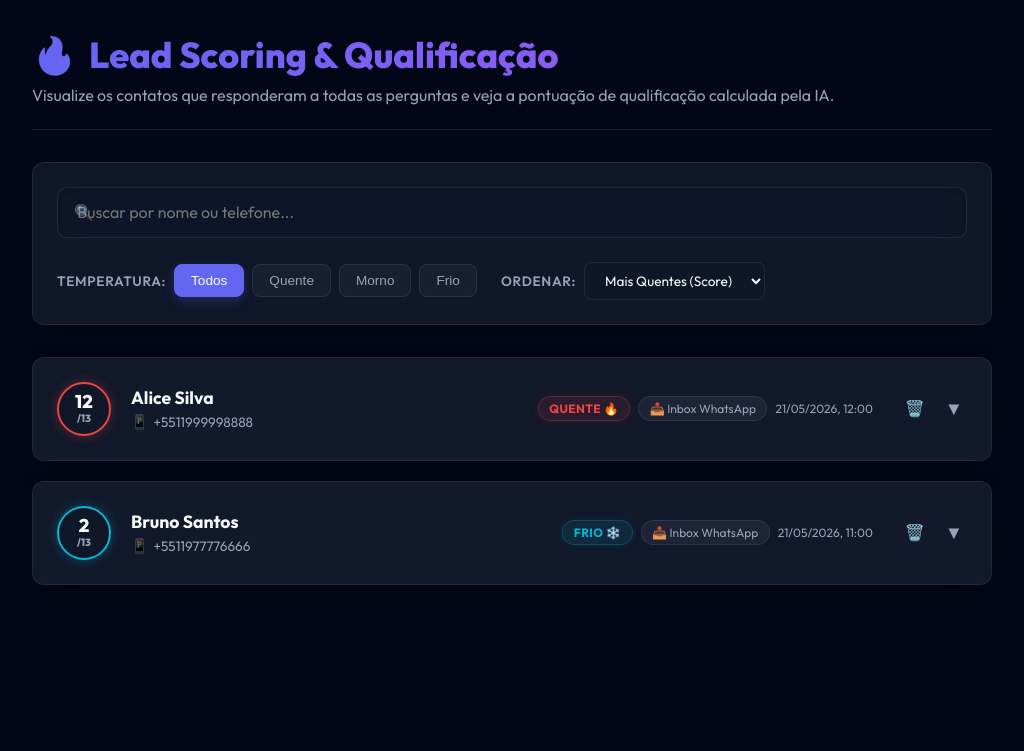
Test: LeadScoring Component › deve expandir e recolher o accordion para exibir perguntas, respostas e justificativa
The width and height of the screenshot is (1024, 751).
Expected: the heading "Alice Silva" is shown, left=131, top=386, right=214, bottom=409
Expected: the text "Respostas de Qualificação" is not shown
# Clicar no cabeçalho do card para expandir
Click the text "Alice Silva": (512, 409) left=33, top=358, right=991, bottom=460
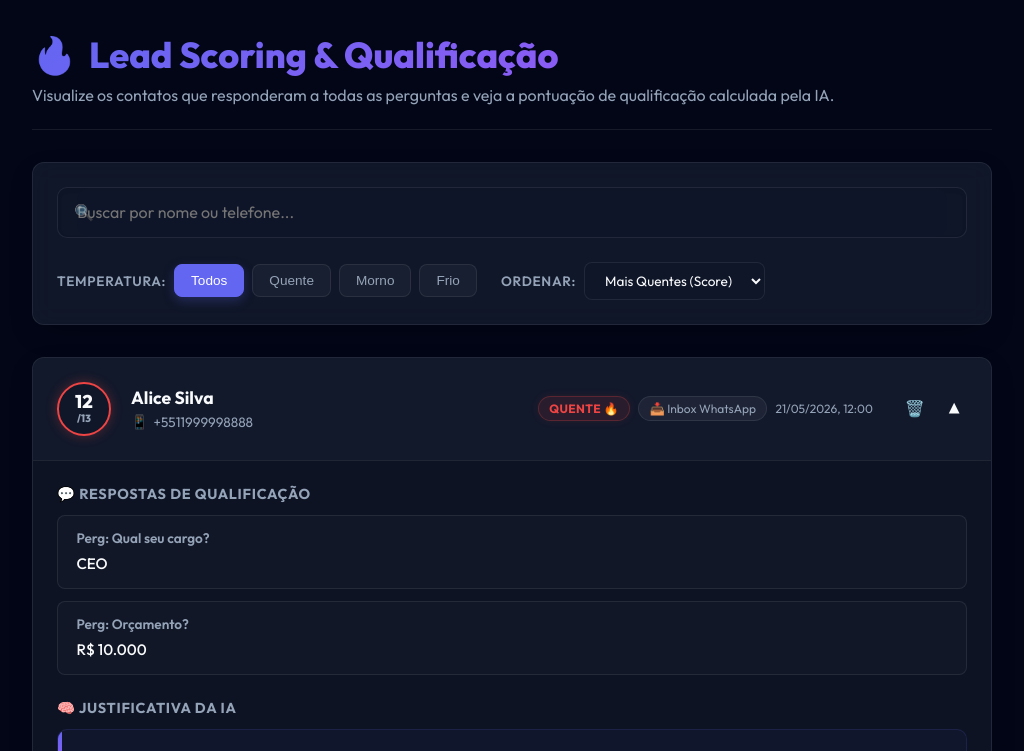
Now the heading "💬 Respostas de Qualificação" is shown, box left=57, top=485, right=311, bottom=503
Now the text "CEO" is shown, box left=76, top=554, right=108, bottom=573
Now the heading "🧠 Justificativa da IA" is shown, box left=57, top=699, right=237, bottom=717
# Clicar novamente para fechar
Click the text "Alice Silva": (512, 409) left=33, top=358, right=991, bottom=460
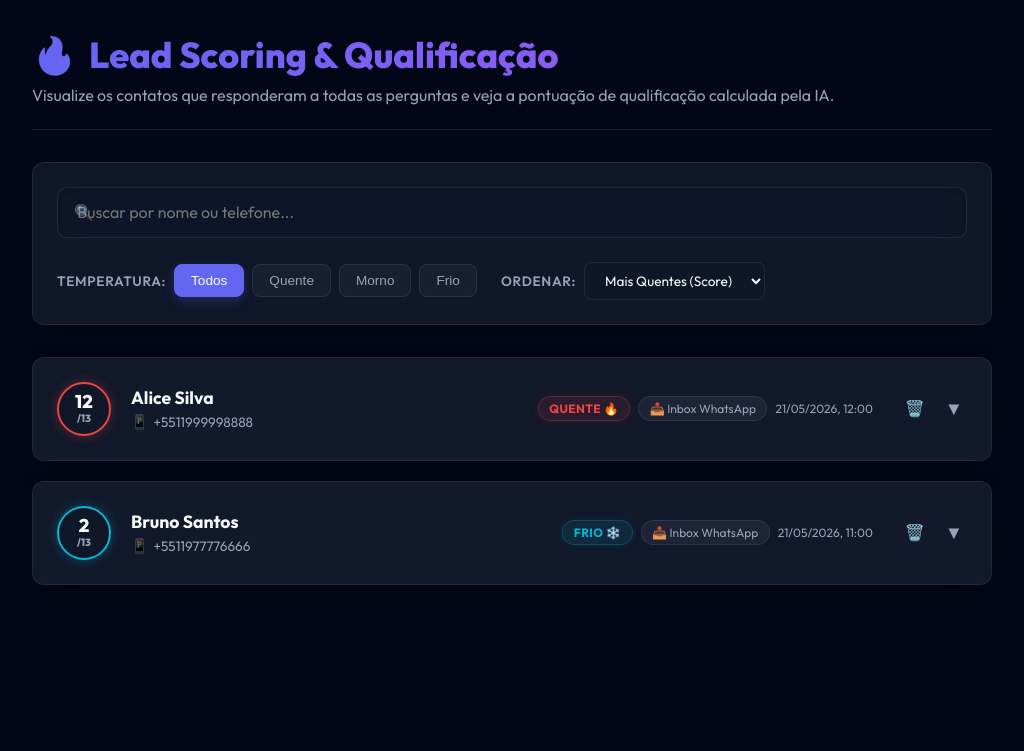
Now the heading "Respostas de Qualificação" is gone
